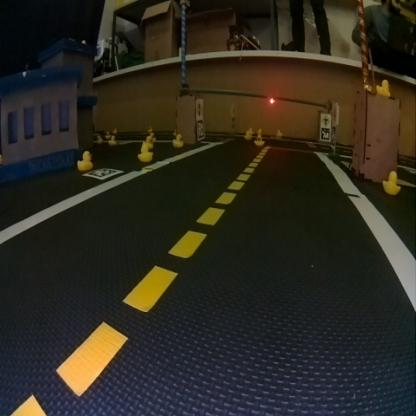Duckie: (382, 171, 401, 195), (376, 78, 390, 96), (78, 150, 92, 168), (137, 144, 152, 158), (172, 134, 182, 148), (142, 136, 152, 148), (254, 134, 263, 144), (108, 135, 116, 144), (96, 134, 102, 142), (244, 130, 249, 136)
Intersection sign: (322, 114, 330, 126)
QR code: (86, 166, 121, 178), (320, 128, 328, 139), (197, 121, 202, 135)
Signal sign: (196, 102, 202, 116)
Traffic light: (268, 96, 274, 104)
